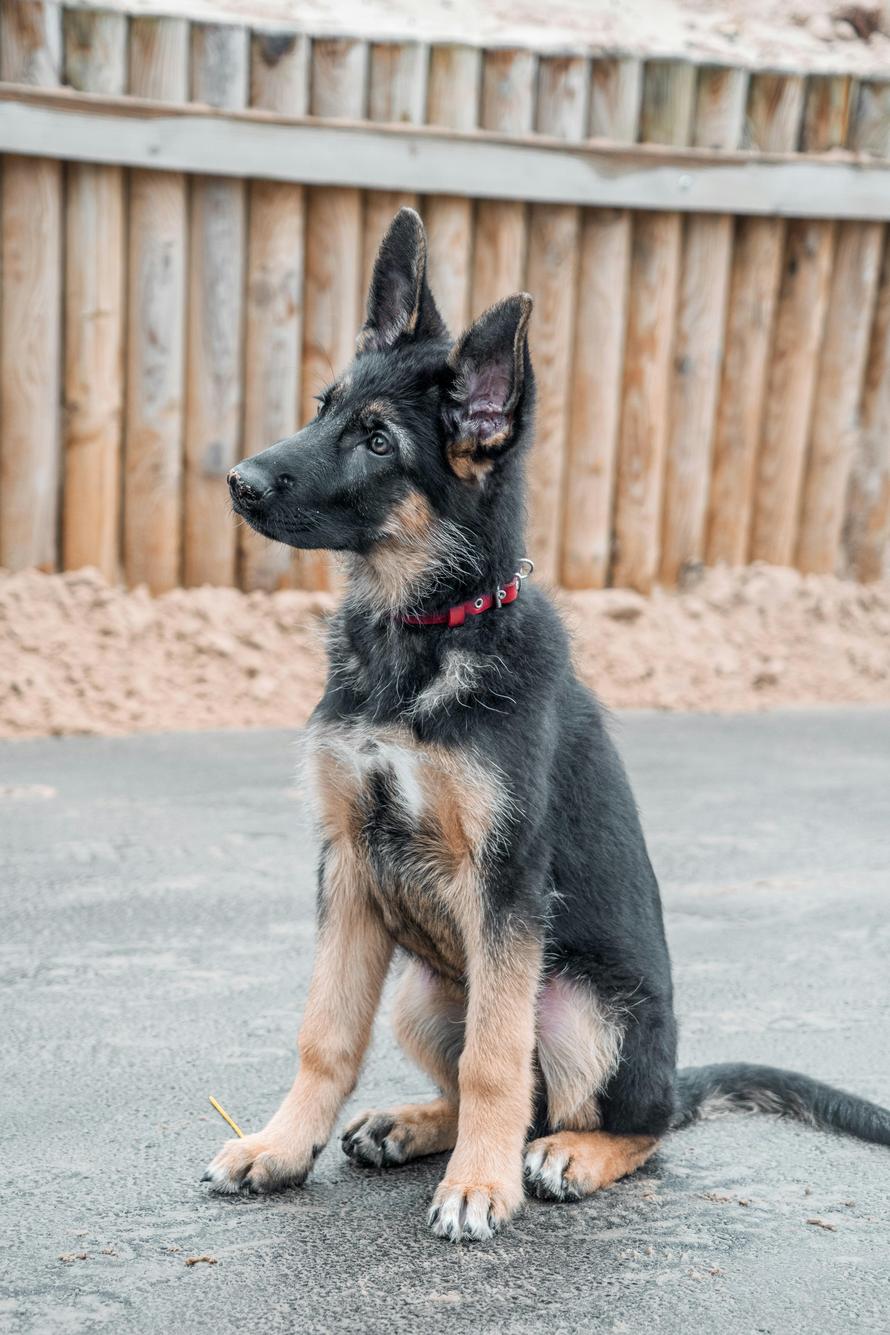german_shepherd: (180, 270, 575, 623)
